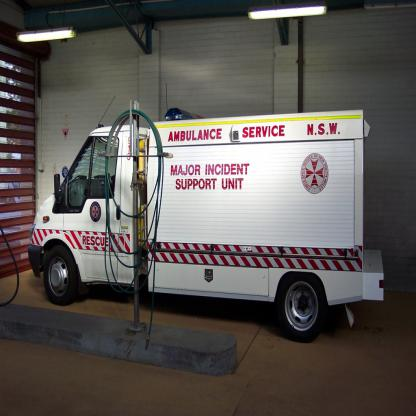Ambulance: (28, 83, 385, 345)
Truck: (26, 101, 388, 342)
